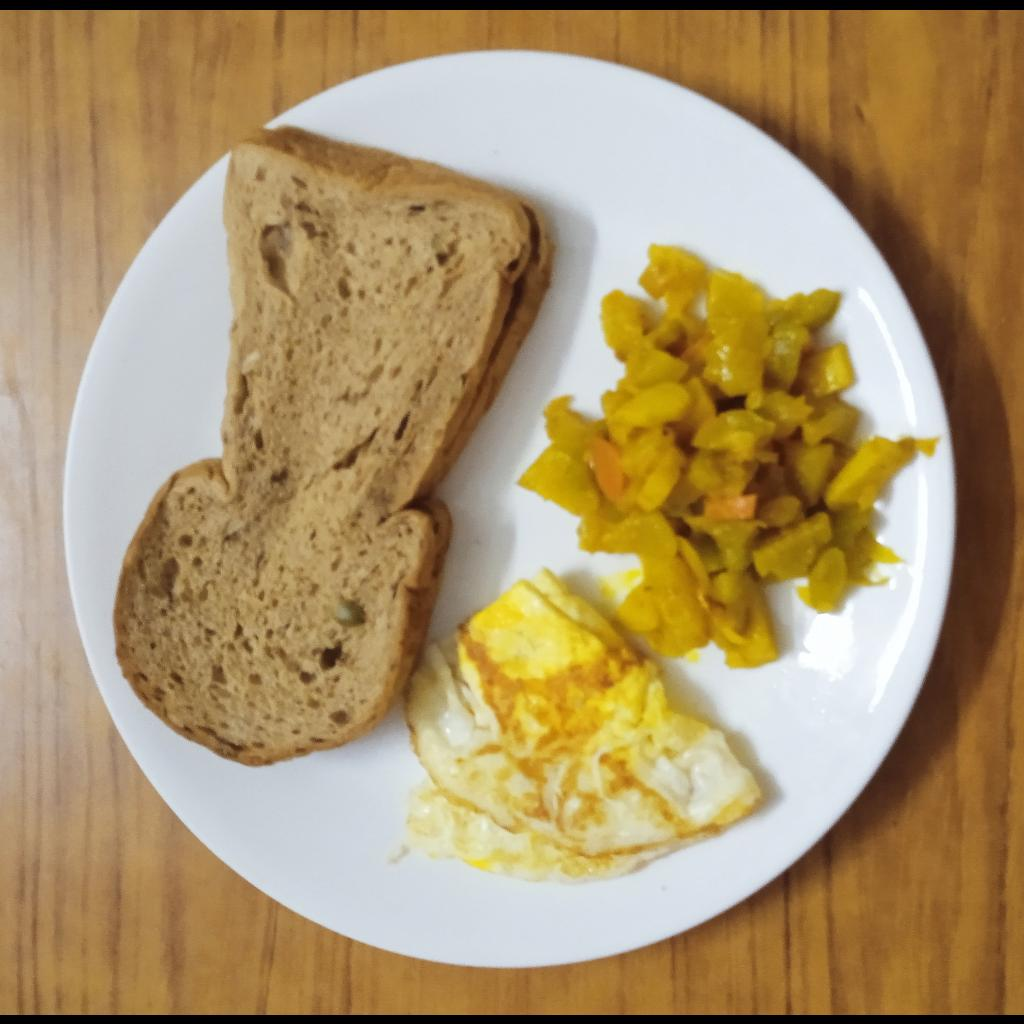bread: (114, 126, 551, 769)
egg-poached: (403, 567, 763, 880)
vegetable: (513, 242, 924, 666)
